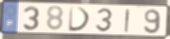3: (94, 7, 115, 33), (22, 5, 41, 32)
8: (45, 5, 67, 33)
9: (143, 8, 162, 34)
D: (67, 6, 92, 32)
I: (124, 7, 132, 33)
